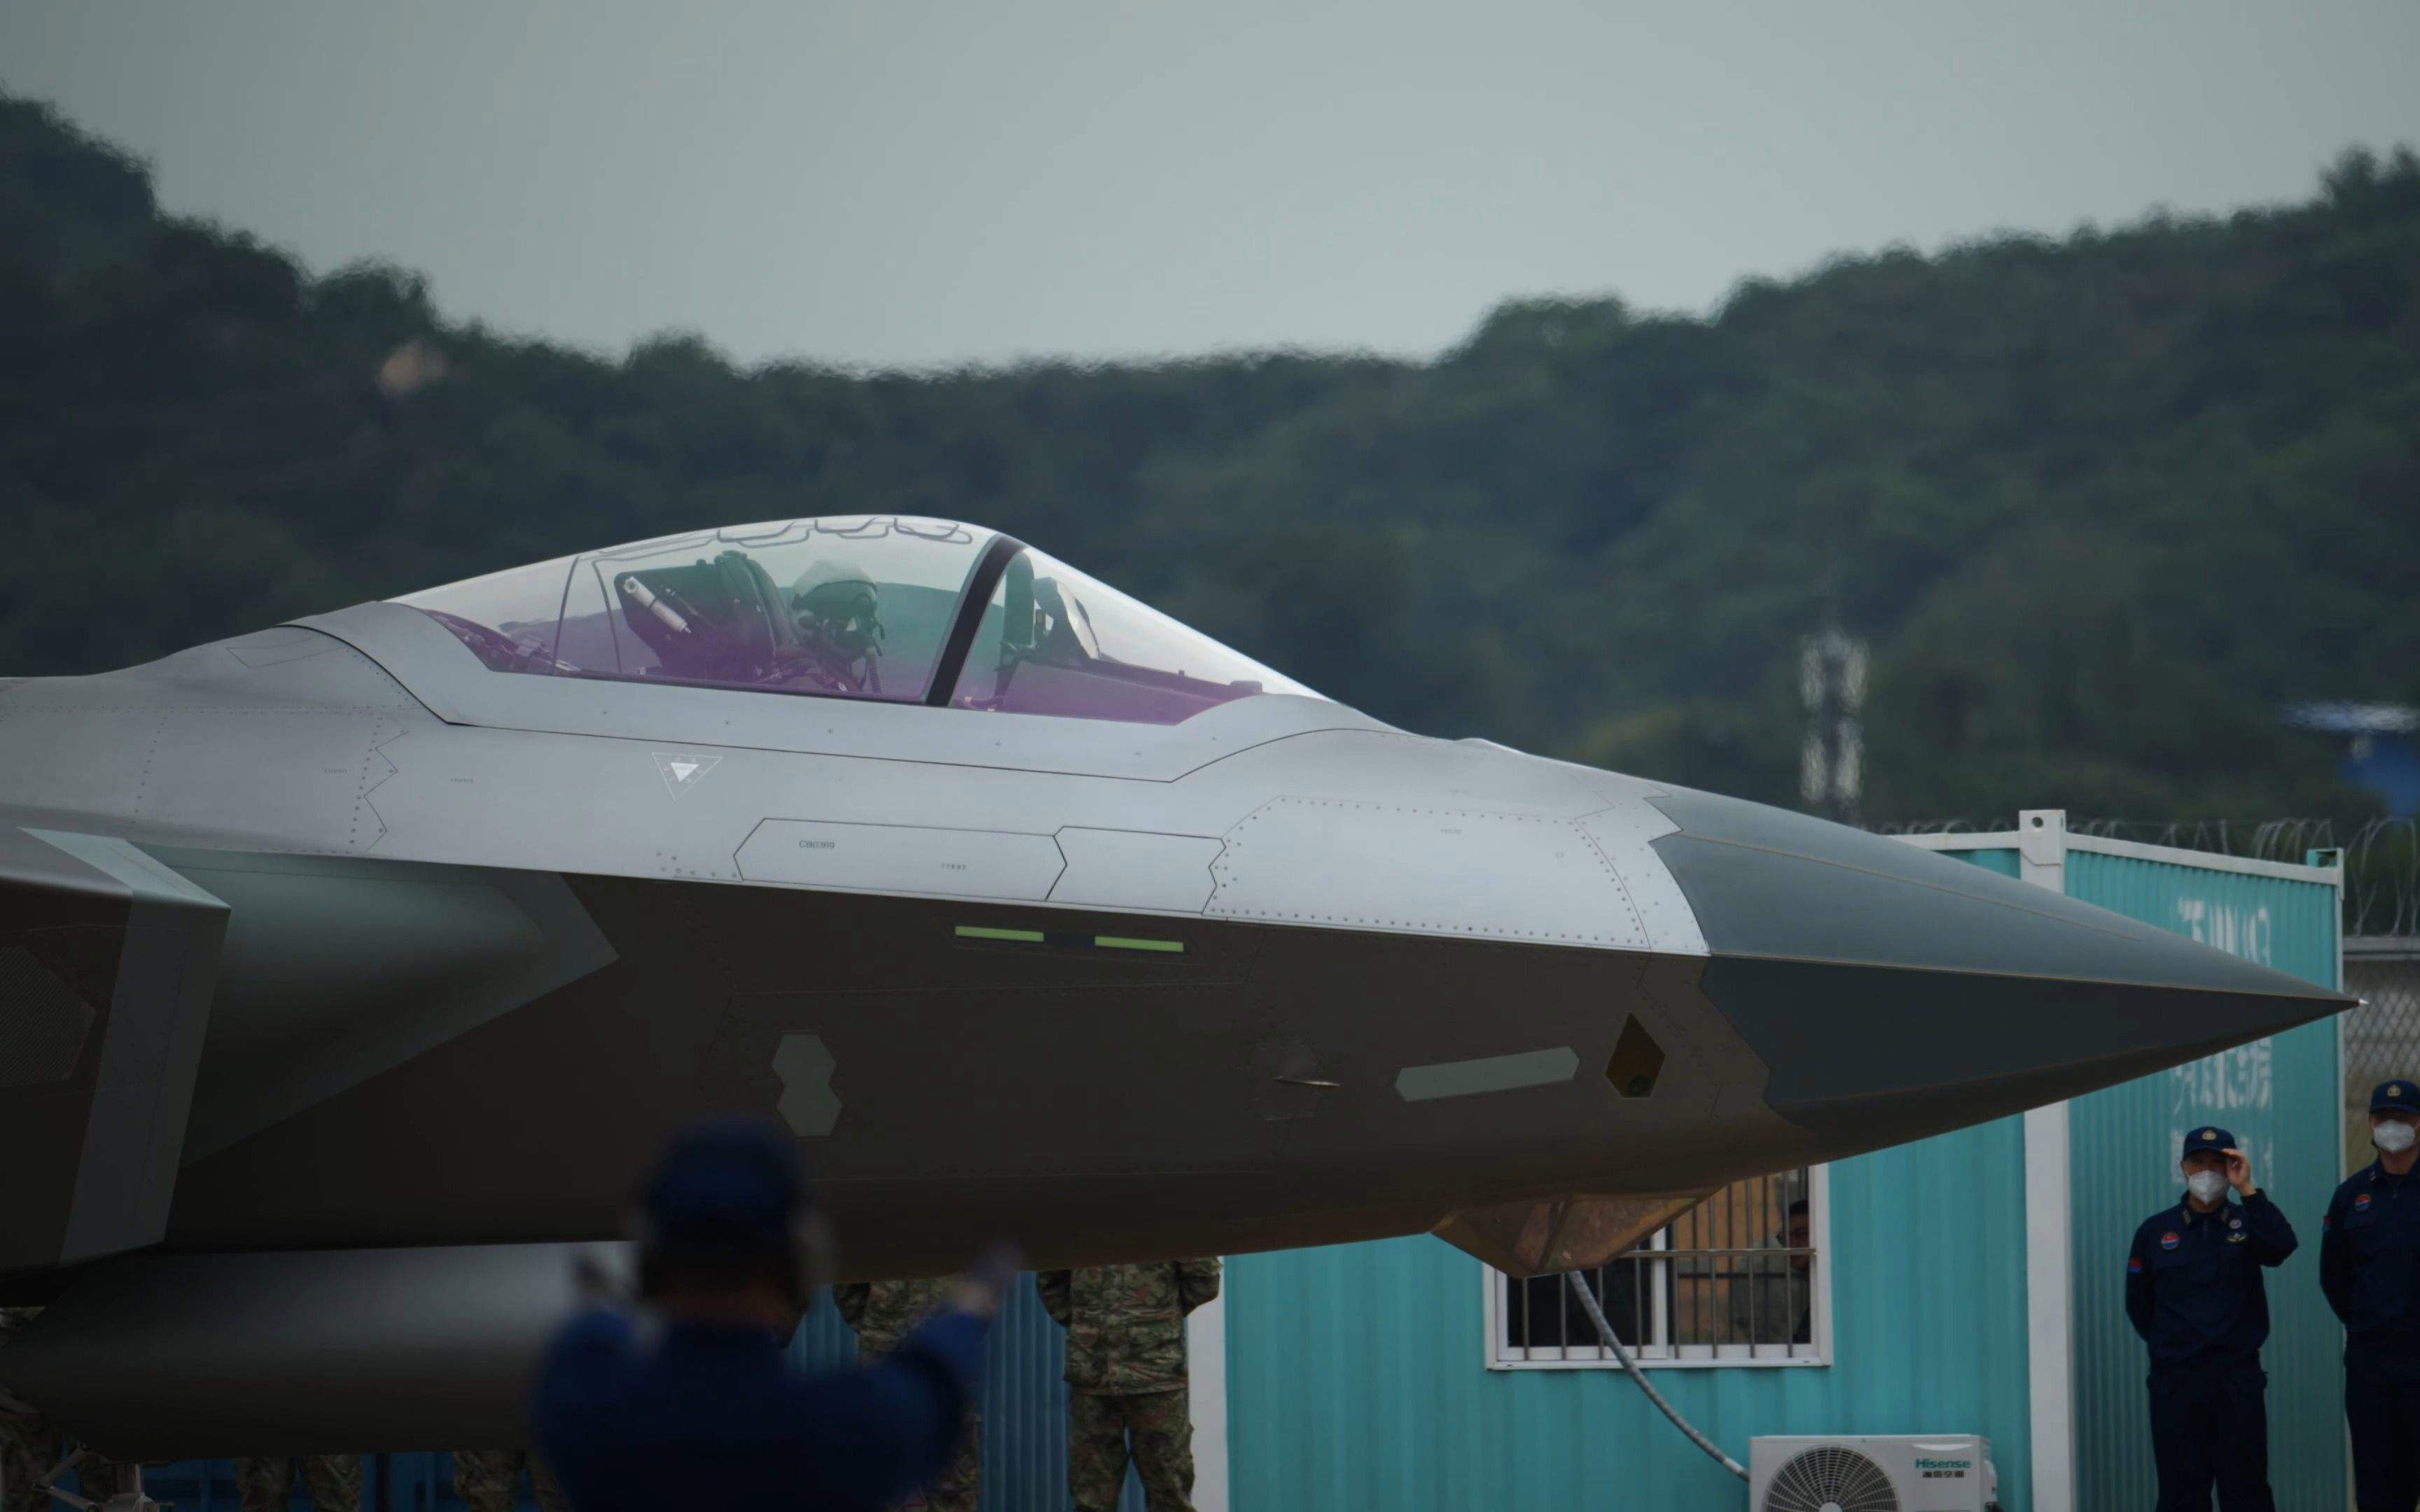J20: (0, 514, 2369, 1512)
